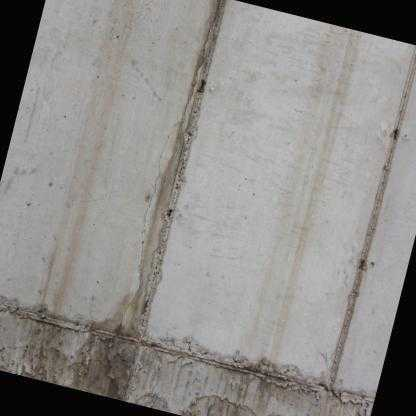crack: (119, 117, 181, 330), (166, 0, 222, 176)
